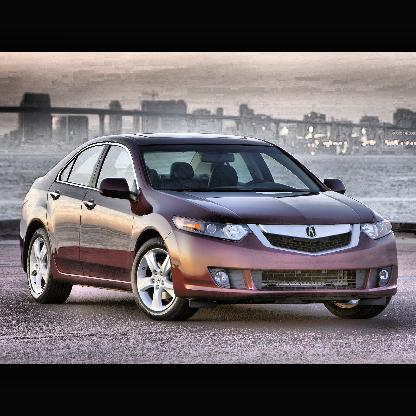Acura TSX Sedan 2012: (19, 135, 399, 322)
